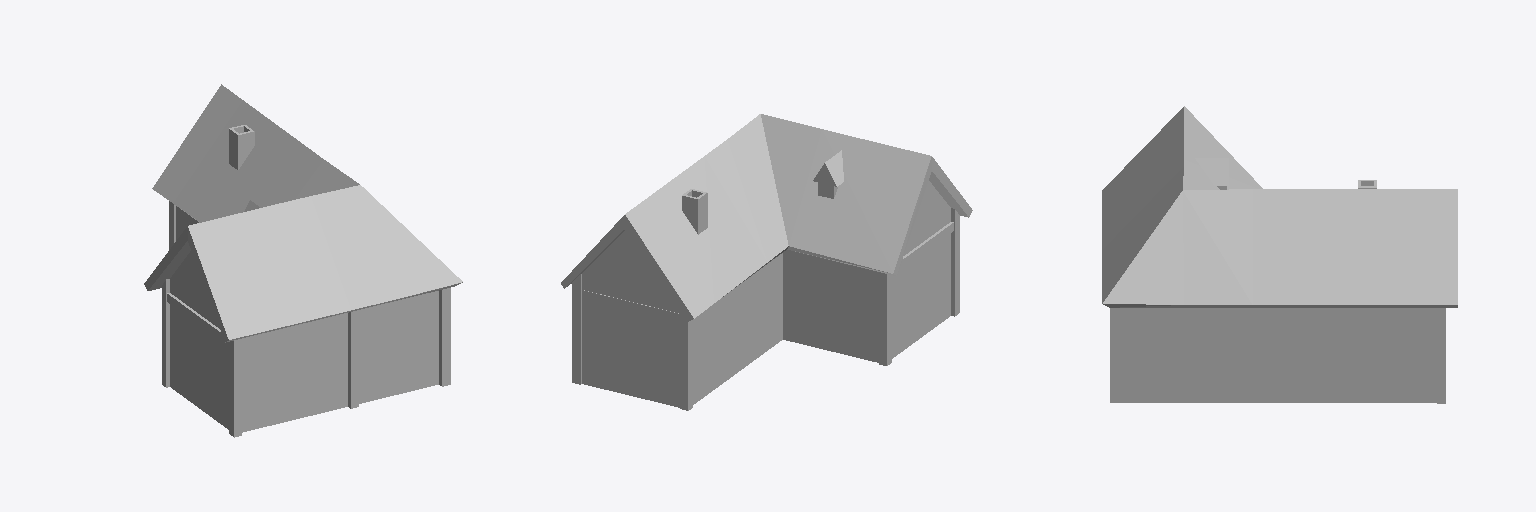
The model's file is Hous_1_Cut.obj.
The picture shows the model from 3 angles: view 1: azimuth 30°, elevation 25°; view 2: azimuth 150°, elevation 25°; view 3: azimuth 270°, elevation 25°; orthographic projection.
Parts seen in each view (by area): view 1: Hous1_R, House1_T; view 2: House1_T, Hous1_R; view 3: Hous1_R, House1_T.
Boxes of the visible parts, x1,y1,x2,y2 form: Hous1_R: [144, 84, 462, 342]; House1_T: [162, 201, 450, 437]; House1_T: [572, 181, 959, 410]; Hous1_R: [561, 114, 972, 321]; Hous1_R: [1102, 106, 1457, 307]; House1_T: [1110, 308, 1445, 403].
Size of the model in its own units: 6.41 by 4.82 by 8.32.